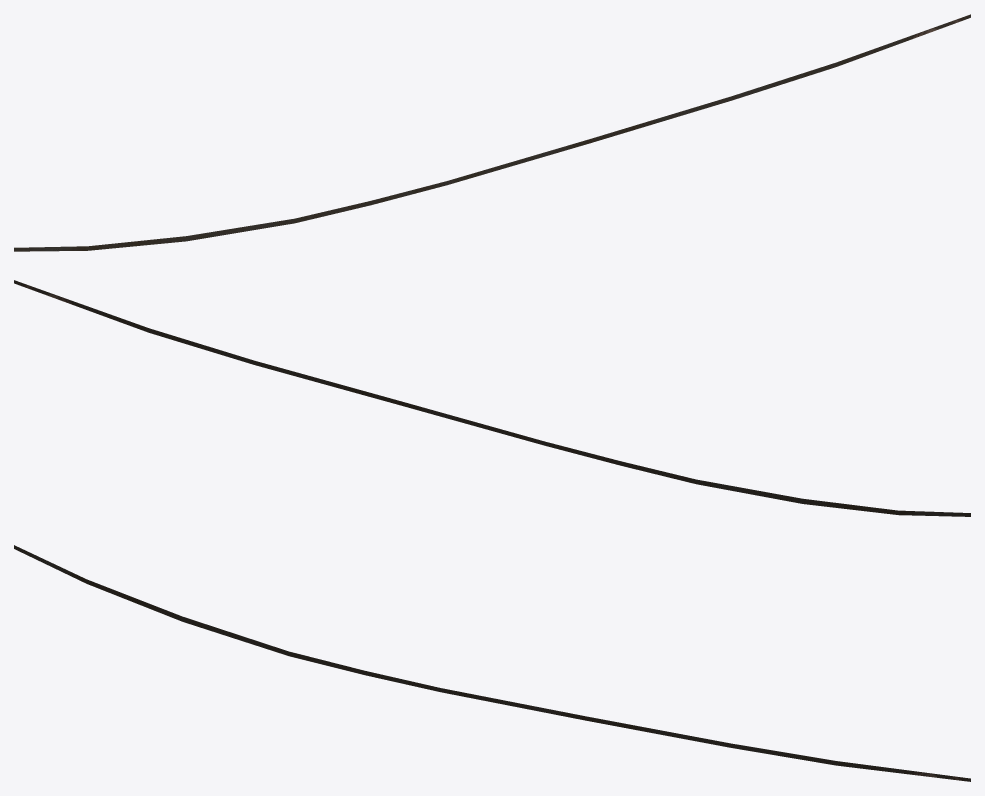
File: Rope_03.FBX
3 views of the same model, one above another, from view 1: azimuth 30°, elevation 25°; view 2: azimuth 150°, elevation 25°; view 3: azimuth 330°, elevation 25° (orthographic).
Visible parts, largest first — view 1: Rope_03; view 2: Rope_03; view 3: Rope_03.
Boxes of the visible parts, x1,y1,x2,y2 form: Rope_03: [14, 14, 970, 251]; Rope_03: [14, 280, 970, 516]; Rope_03: [14, 545, 970, 781].
Bounding box in the file's own units: 541 × 22.32 × 3.47.
